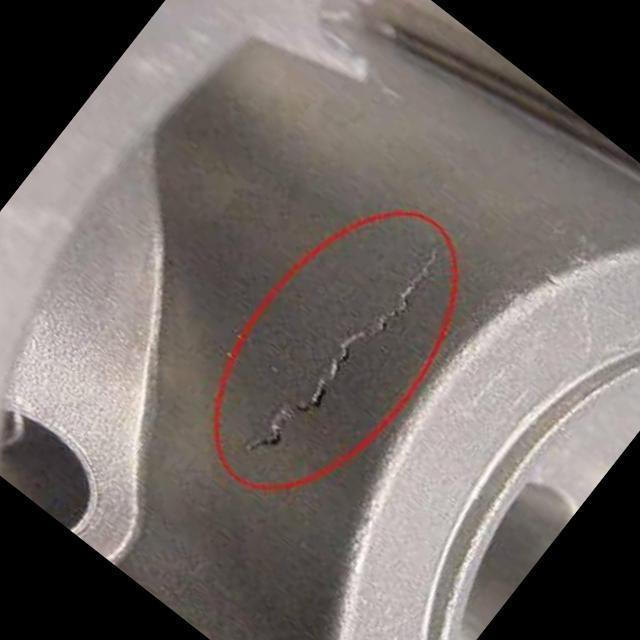defect: (236, 238, 443, 457)
